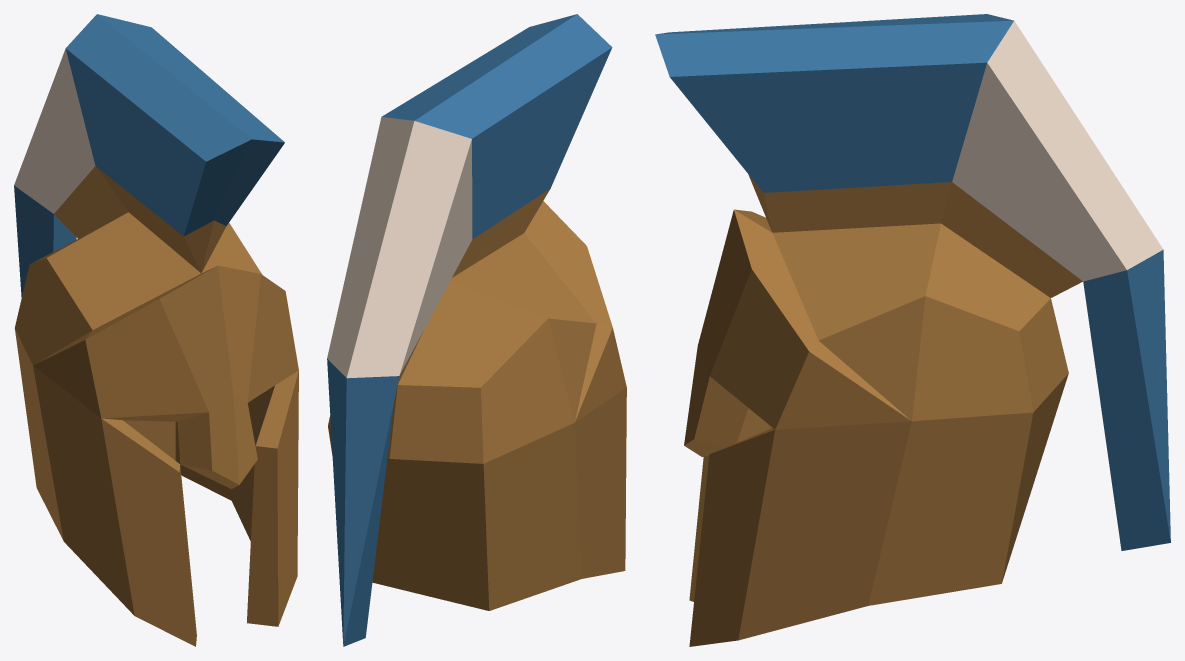
Rendered from empire-helmet-greek-empire.glb.
3 renders of one model, left to right at view 1: azimuth 30°, elevation 25°; view 2: azimuth 150°, elevation 25°; view 3: azimuth 270°, elevation 25°, orthographic. The views are drawn at different scales.
Parts seen in each view (by area): view 1: SM_Helmet_Greek_Empire; view 2: SM_Helmet_Greek_Empire; view 3: SM_Helmet_Greek_Empire.
Part boxes in pixels (x1,y1,x2,y2): SM_Helmet_Greek_Empire: (14,14,298,646); SM_Helmet_Greek_Empire: (327,14,626,646); SM_Helmet_Greek_Empire: (655,14,1170,646).
Size of the model in its own units: 0.1904 by 0.4405 by 0.3392.
